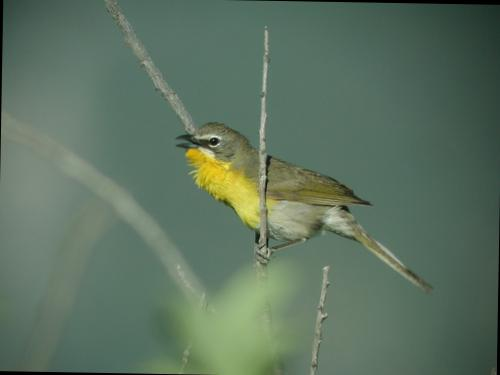bird: (163, 110, 441, 316)
